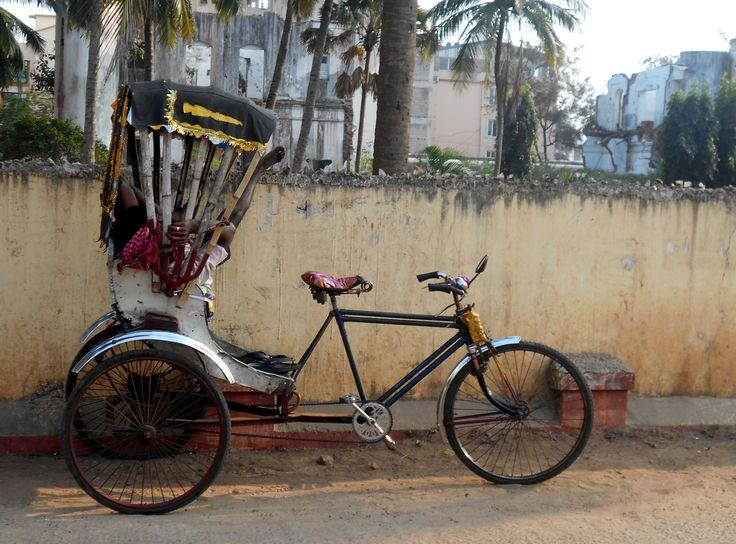Rickshaw: (62, 81, 592, 512)
